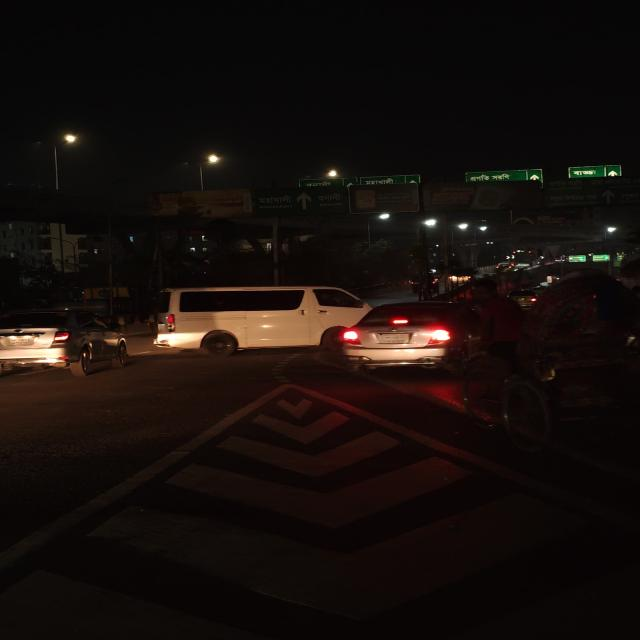car: (149, 284, 380, 356), (337, 300, 492, 372), (0, 306, 129, 378)
rickshaw: (476, 275, 640, 442)
